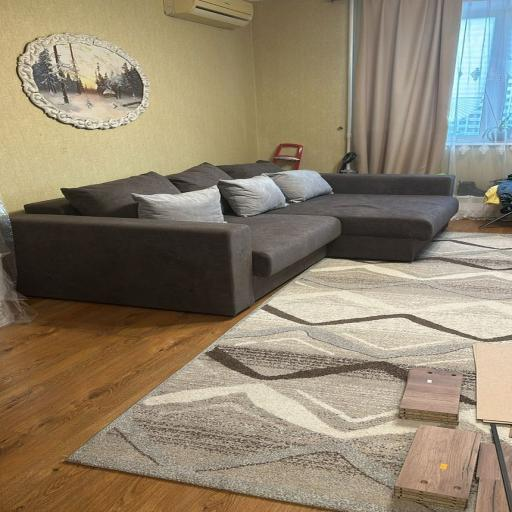hole: (6, 153, 464, 316)
